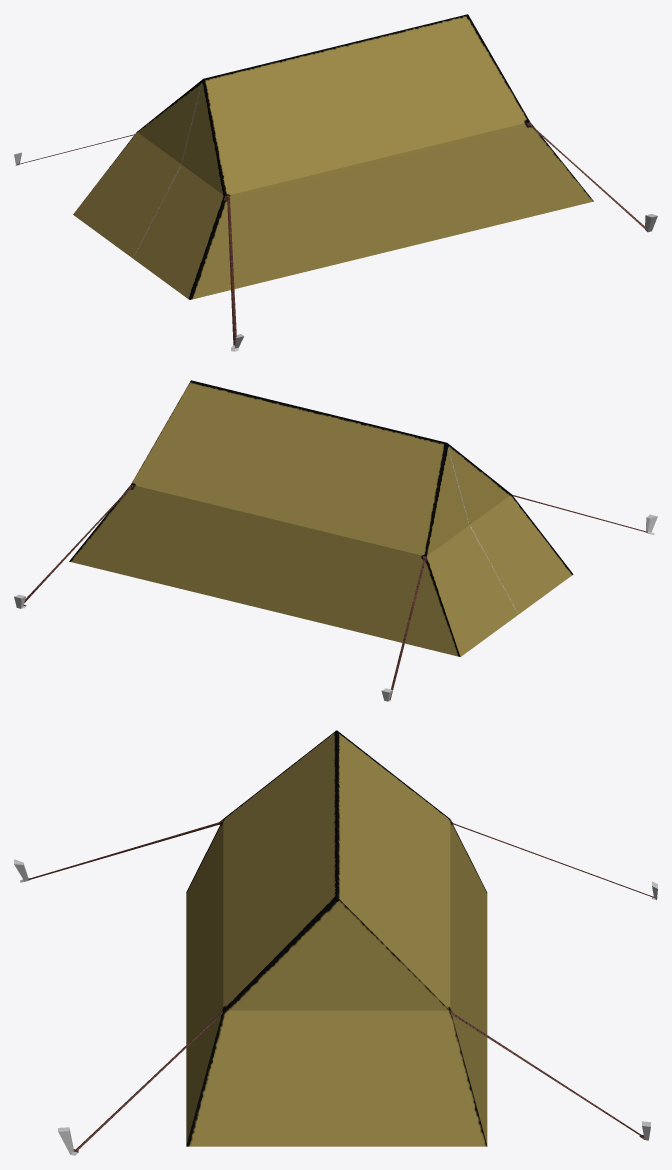
The model's file is Tent.fbx.
3 views of the same model, one above another, from view 1: azimuth 30°, elevation 25°; view 2: azimuth 150°, elevation 25°; view 3: azimuth 270°, elevation 25° (orthographic). The views are drawn at different scales.
Parts seen in each view (by area): view 1: Cube; view 2: Cube; view 3: Cube.
Boxes of the visible parts, <box> form: Cube: <box>14,14,657,351</box>; Cube: <box>14,380,657,701</box>; Cube: <box>14,730,657,1155</box>.
Bounding box in the file's own units: 2.89 × 1.01 × 2.84.
